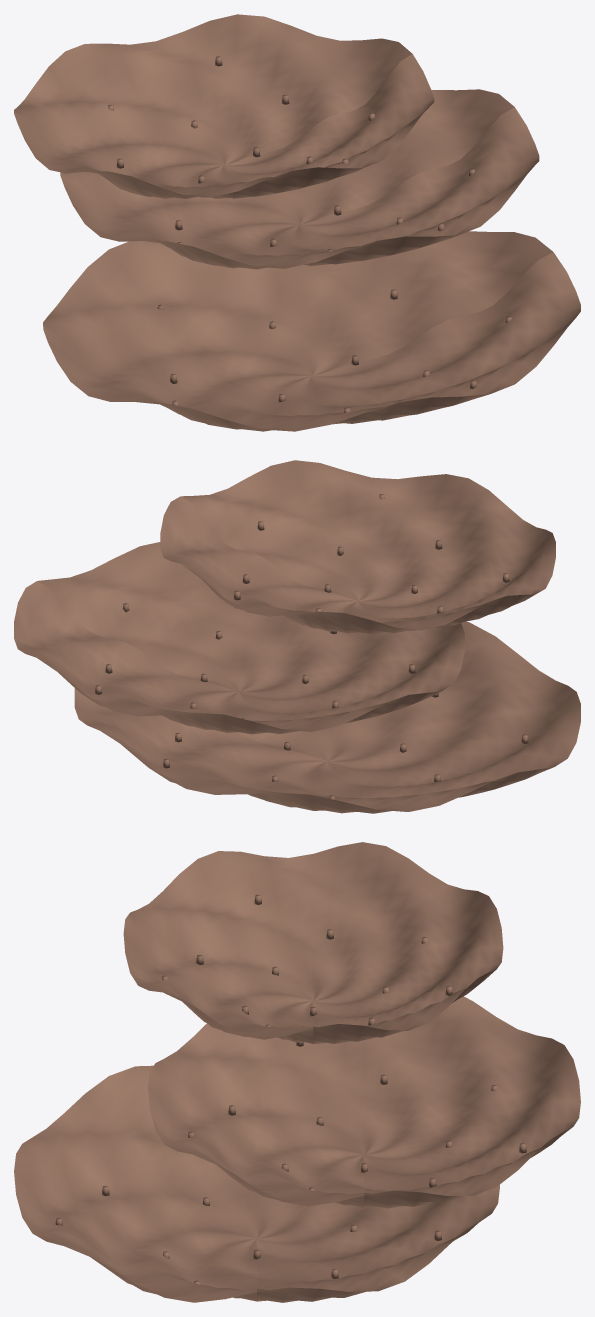
The model's file is montiplate-mobile.glb.
The picture shows the model from 3 angles, top to bottom: view 1: azimuth 30°, elevation 25°; view 2: azimuth 150°, elevation 25°; view 3: azimuth 270°, elevation 25°; orthographic projection. The views are drawn at different scales.
Visible parts, largest first — view 1: foliate-plate, surface-corallite; view 2: foliate-plate, surface-corallite; view 3: foliate-plate, surface-corallite.
Boxes of the visible parts, x1,y1,x2,y2 form: foliate-plate: (14, 14, 580, 431); surface-corallite: (108, 56, 511, 412); foliate-plate: (14, 460, 580, 813); surface-corallite: (95, 494, 528, 799); foliate-plate: (14, 842, 580, 1302); surface-corallite: (55, 894, 526, 1284).
Size of the model in its own units: 0.6687 by 0.3474 by 0.6419.
